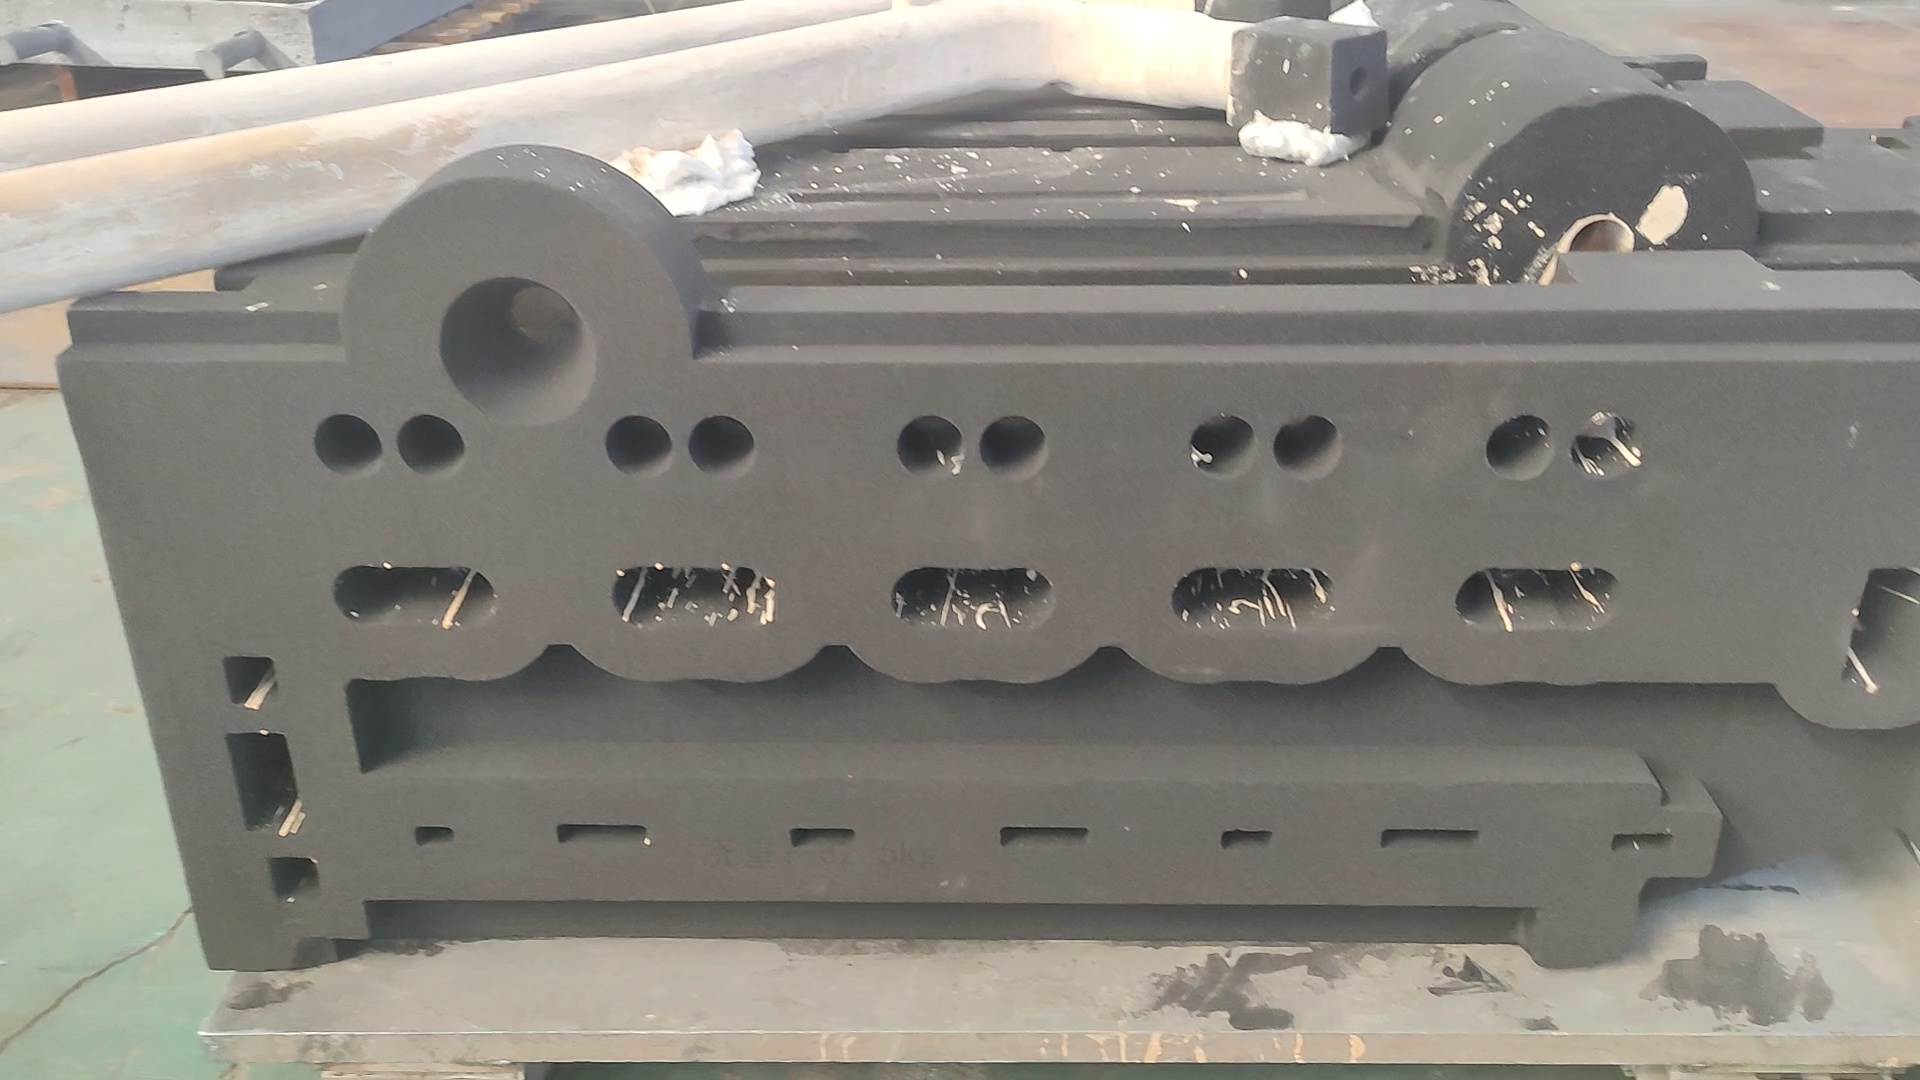pouring hole: (438, 276, 595, 426)
